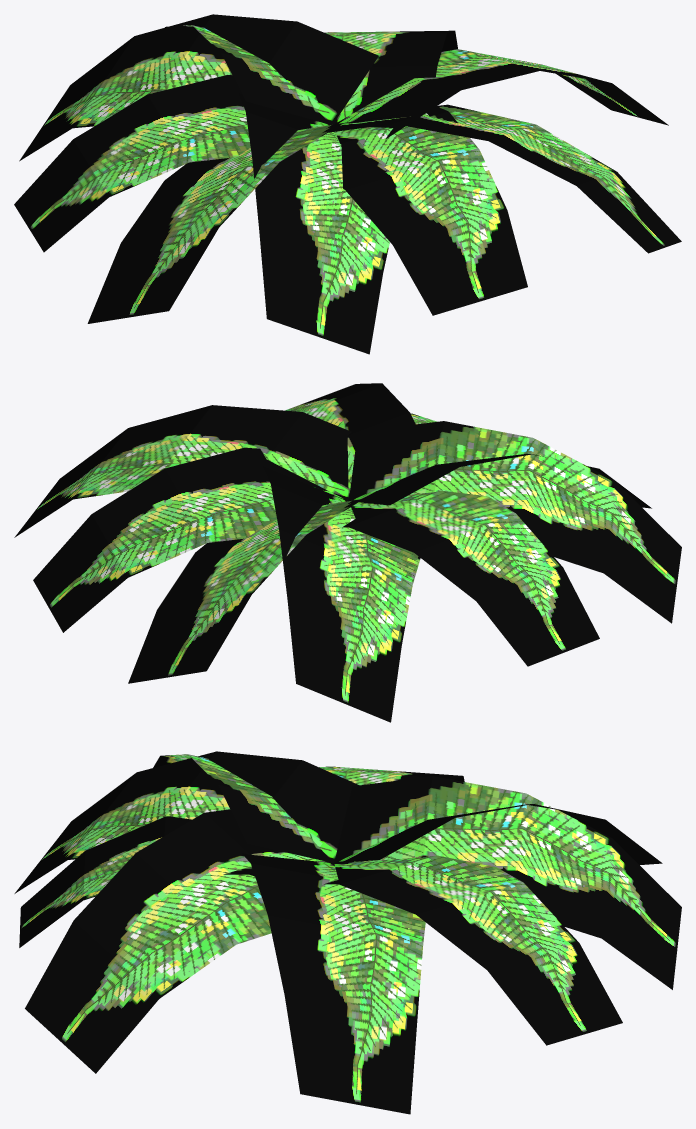
Rendered from SM_fern.fbx.
The picture shows the model from 3 angles, top to bottom: view 1: azimuth 30°, elevation 25°; view 2: azimuth 150°, elevation 25°; view 3: azimuth 270°, elevation 25°; orthographic projection. The views are drawn at different scales.
Visible parts, largest first — view 1: SM_fern; view 2: SM_fern; view 3: SM_fern.
Part boxes in pixels (box(x1,y1,x2,y2)): SM_fern: box(14, 14, 681, 354); SM_fern: box(14, 383, 681, 722); SM_fern: box(14, 751, 681, 1114).
Size of the model in its own units: 1.96 by 0.4508 by 1.78.
